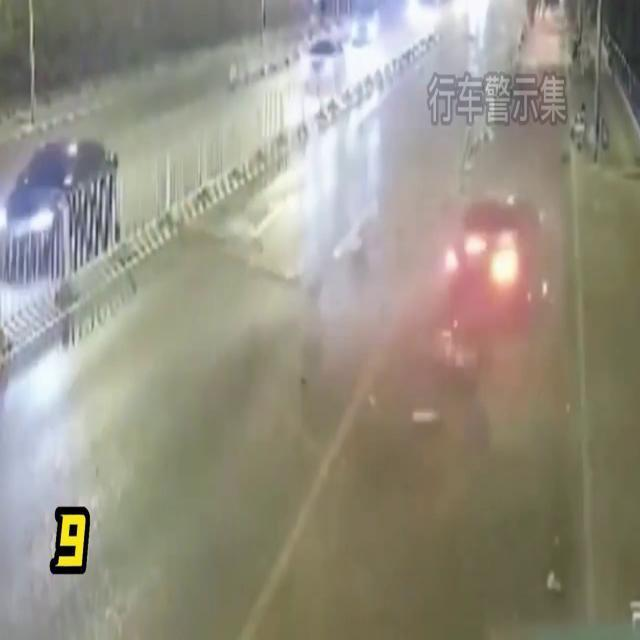accident: (384, 188, 566, 438)
non-accident: (298, 7, 382, 91)
